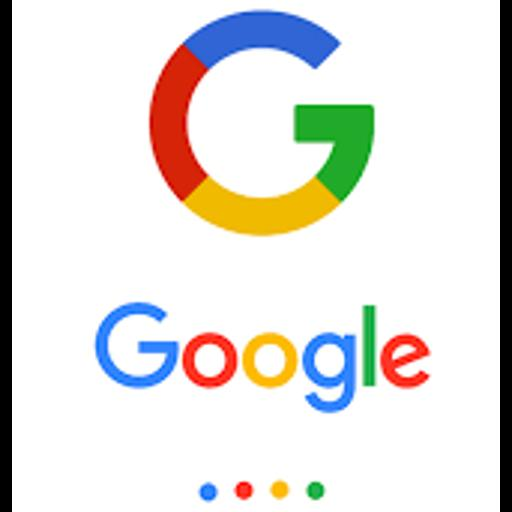Google: (12, 0, 500, 512)
